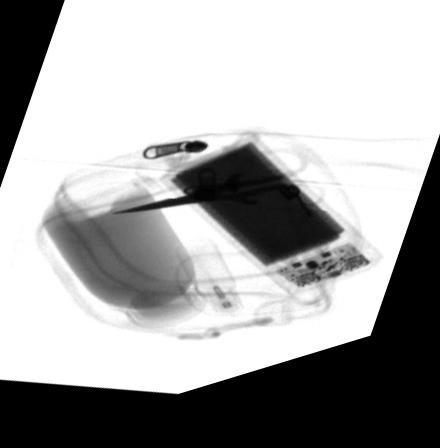Powerbank: (157, 146, 383, 314)
Scissors: (93, 162, 329, 231)
